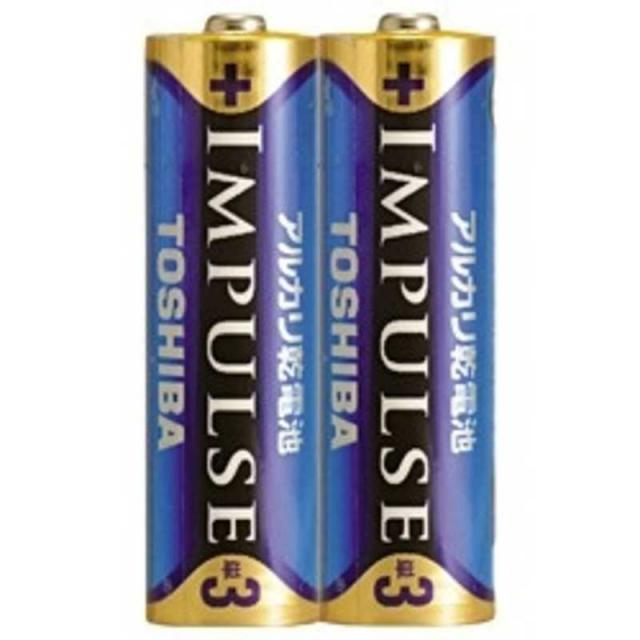AA: (318, 11, 502, 630), (140, 9, 320, 632)
